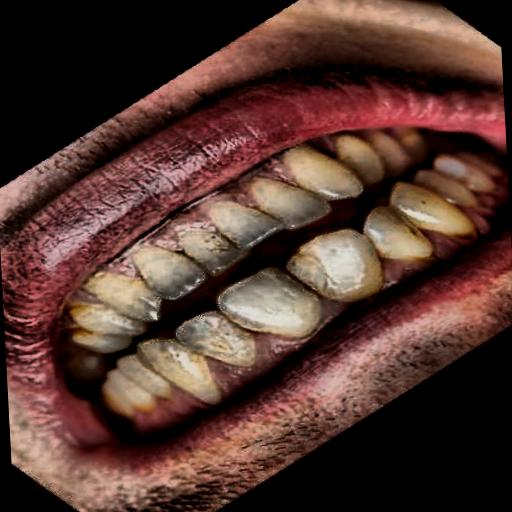Calculus: (354, 149, 510, 304), (177, 218, 254, 280), (54, 293, 117, 354)
